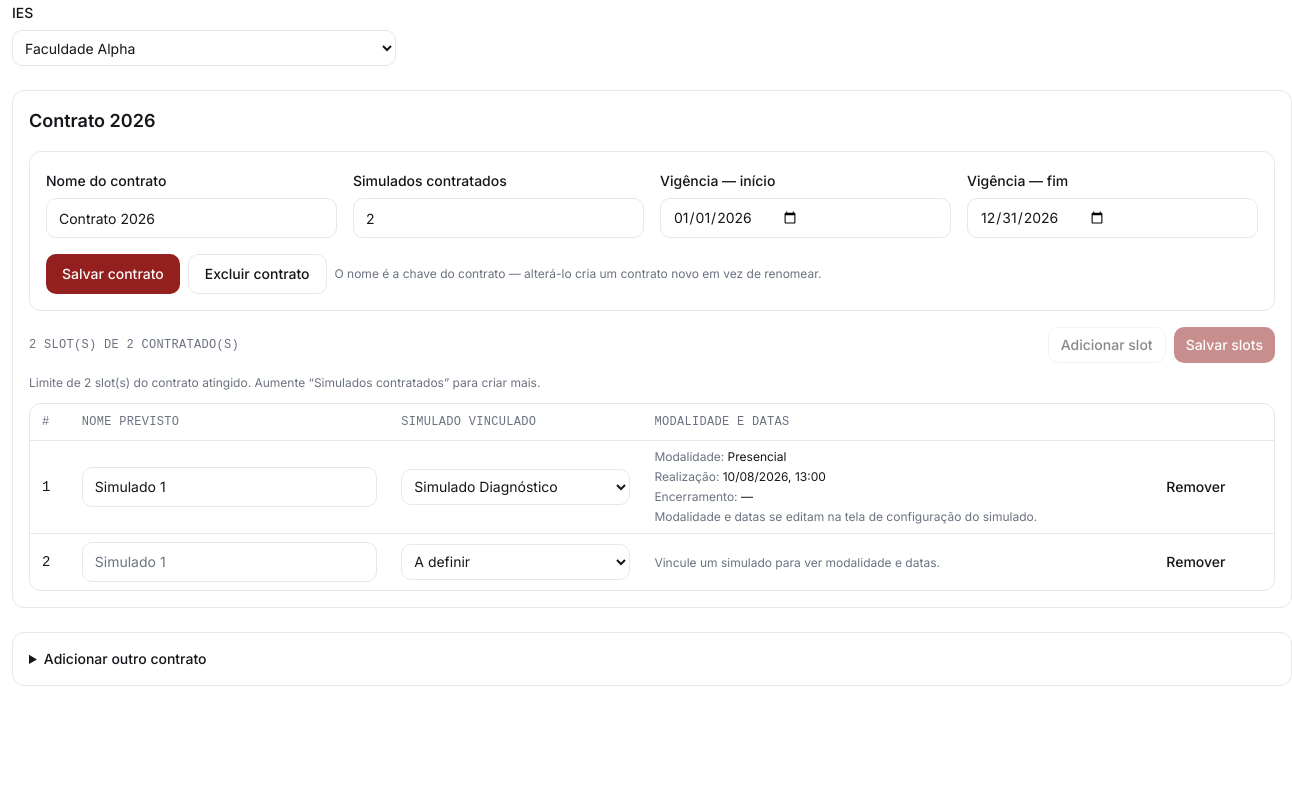
Test: ContratoSimuladosBoard › vincular um simulado a um slot e salvar envia o array completo de slots
Later steps or results of the test are not shown.
Expected: the heading "Contrato 2026" is shown, [29,110,155,131]
// Desvincula o slot 1 (volta para "A definir") — mudança suficiente para habilitar o salvar.
Select "A definir" in the dropdown named "Simulado do slot 1" at [516, 486], box [401,468,630,504]
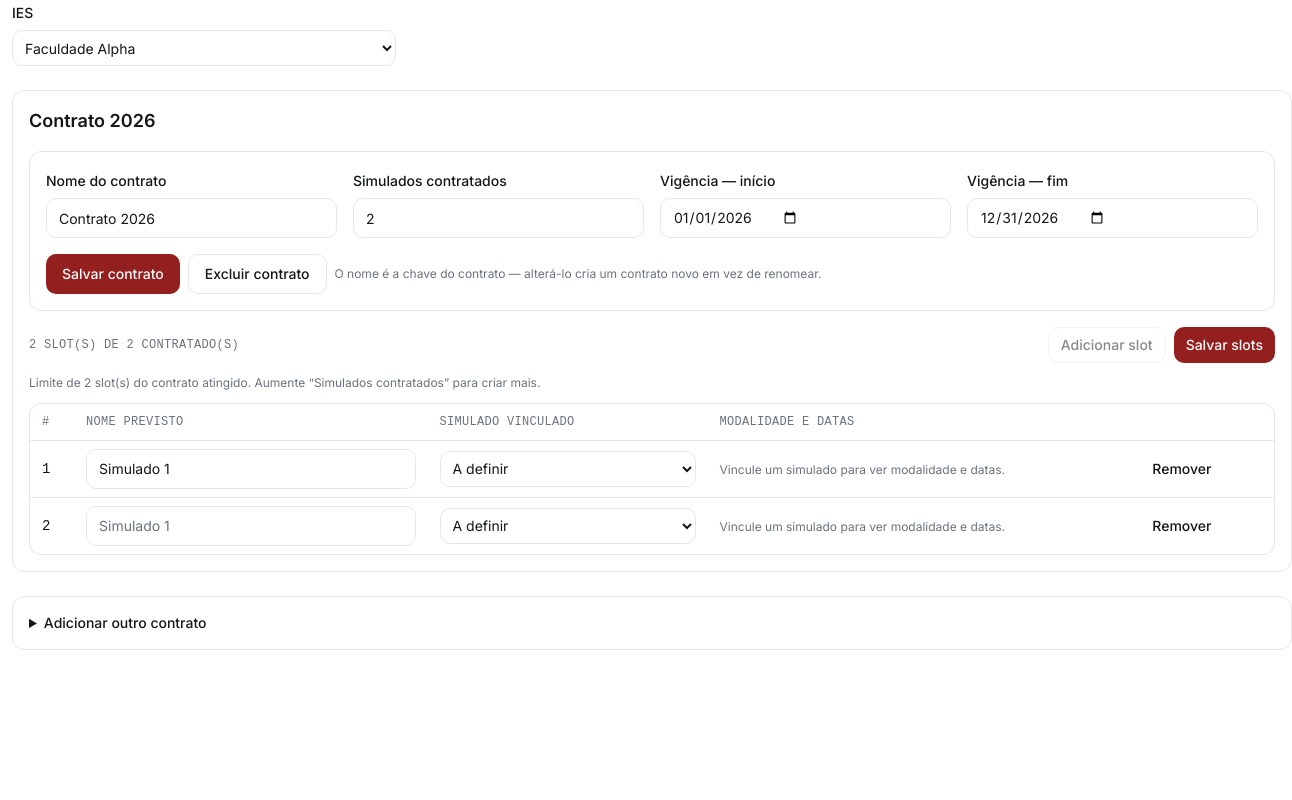
Result: the button "Salvar slots" is enabled at [1174,327,1275,363]
